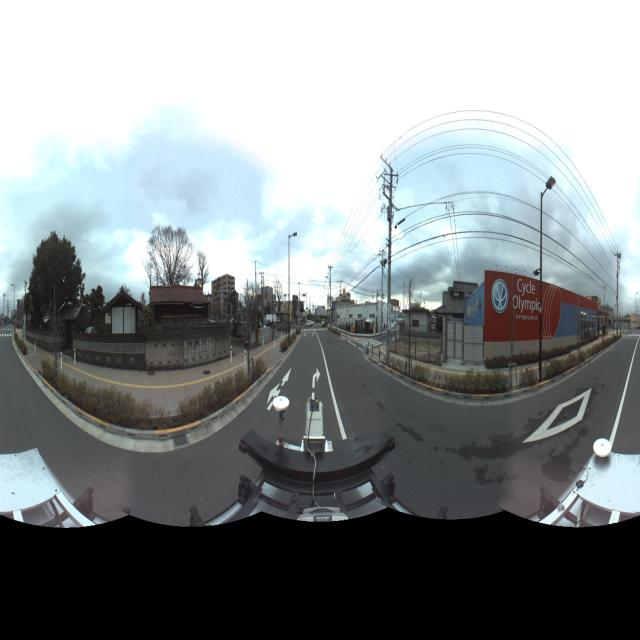b_1: (340, 292, 400, 339), (203, 266, 241, 332)
